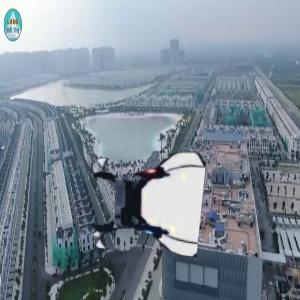drone: (85, 145, 203, 263)
